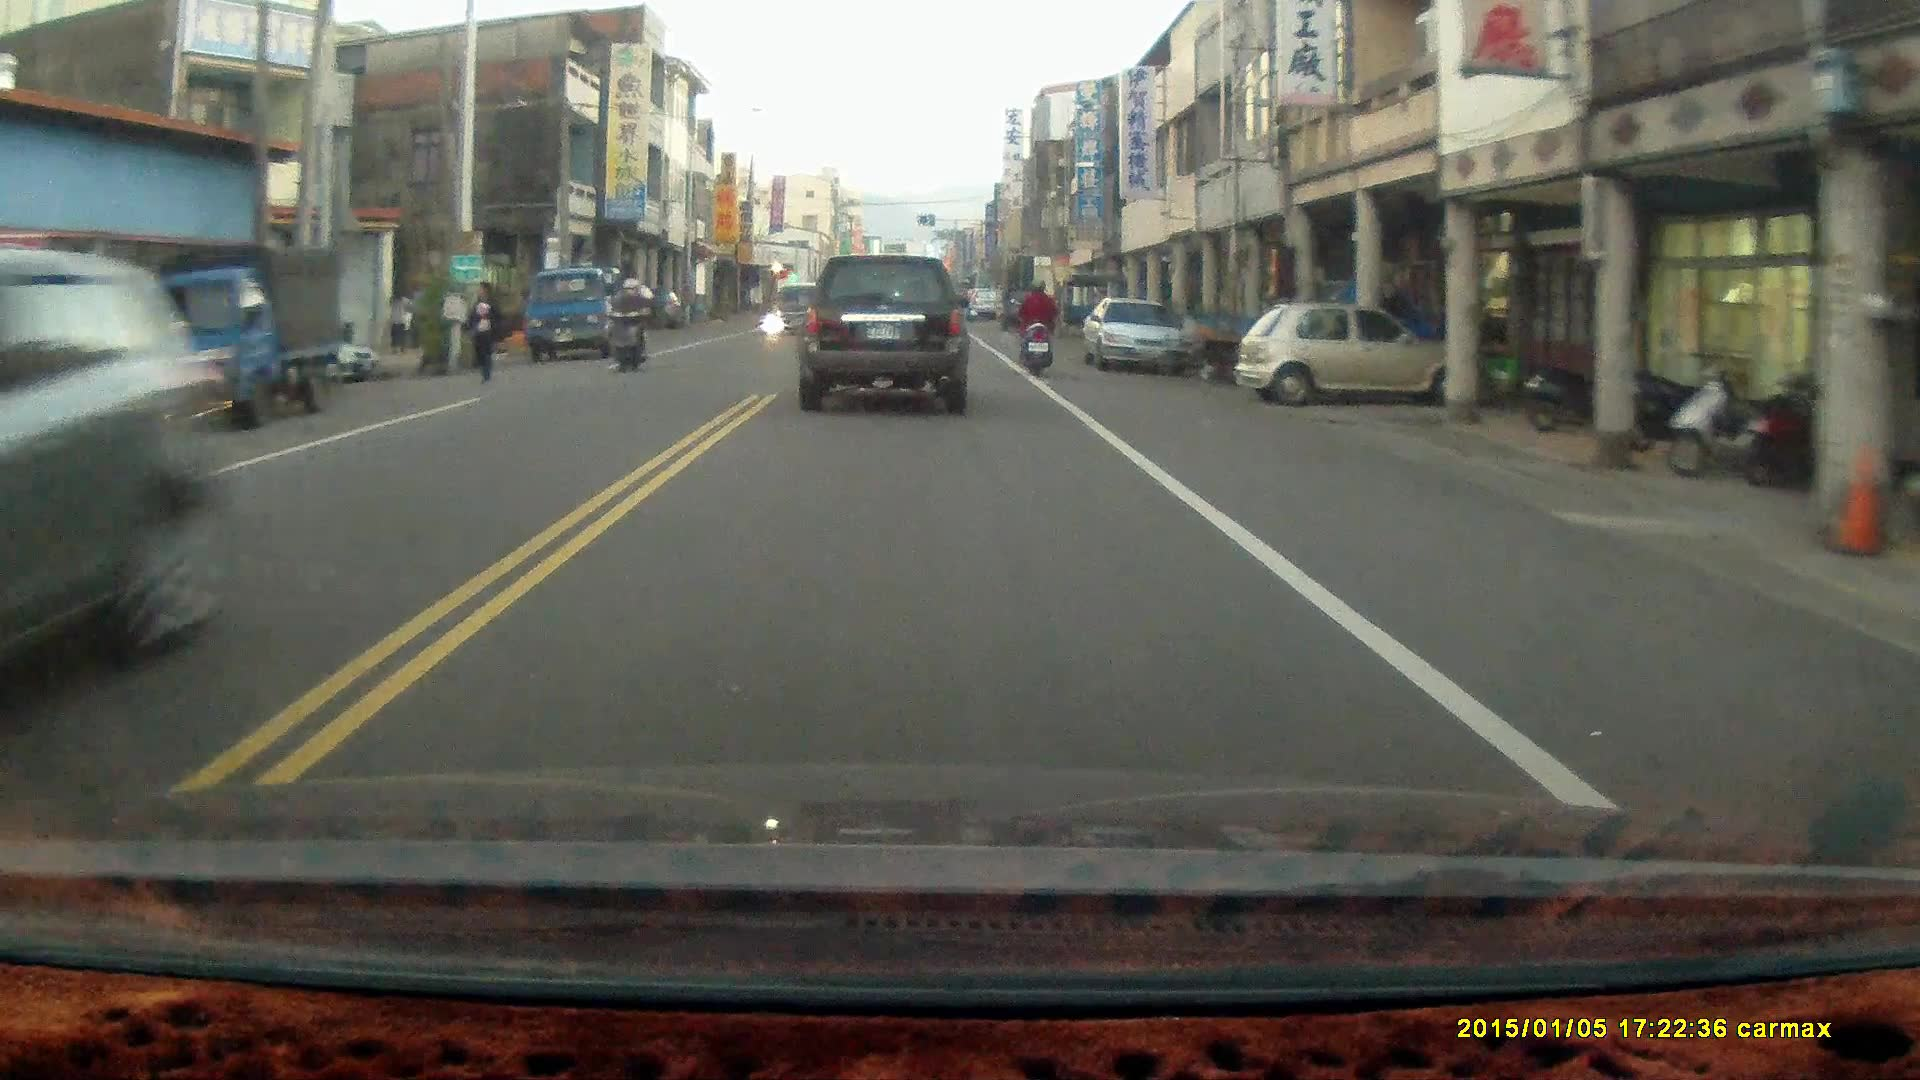pedestrian: (465, 277, 505, 385)
rider: (604, 275, 654, 371), (1016, 274, 1055, 373)
vehicle: (1, 248, 226, 709), (116, 236, 347, 444), (794, 250, 973, 417), (1239, 301, 1478, 404), (527, 263, 658, 360), (1084, 298, 1189, 375)
